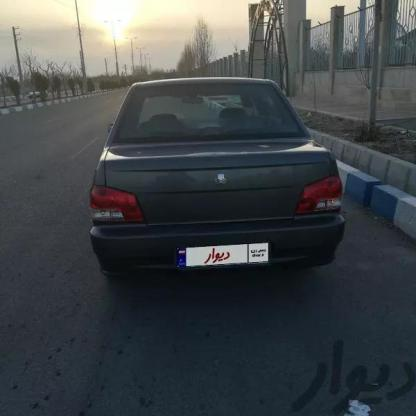Car: (90, 65, 347, 305)
